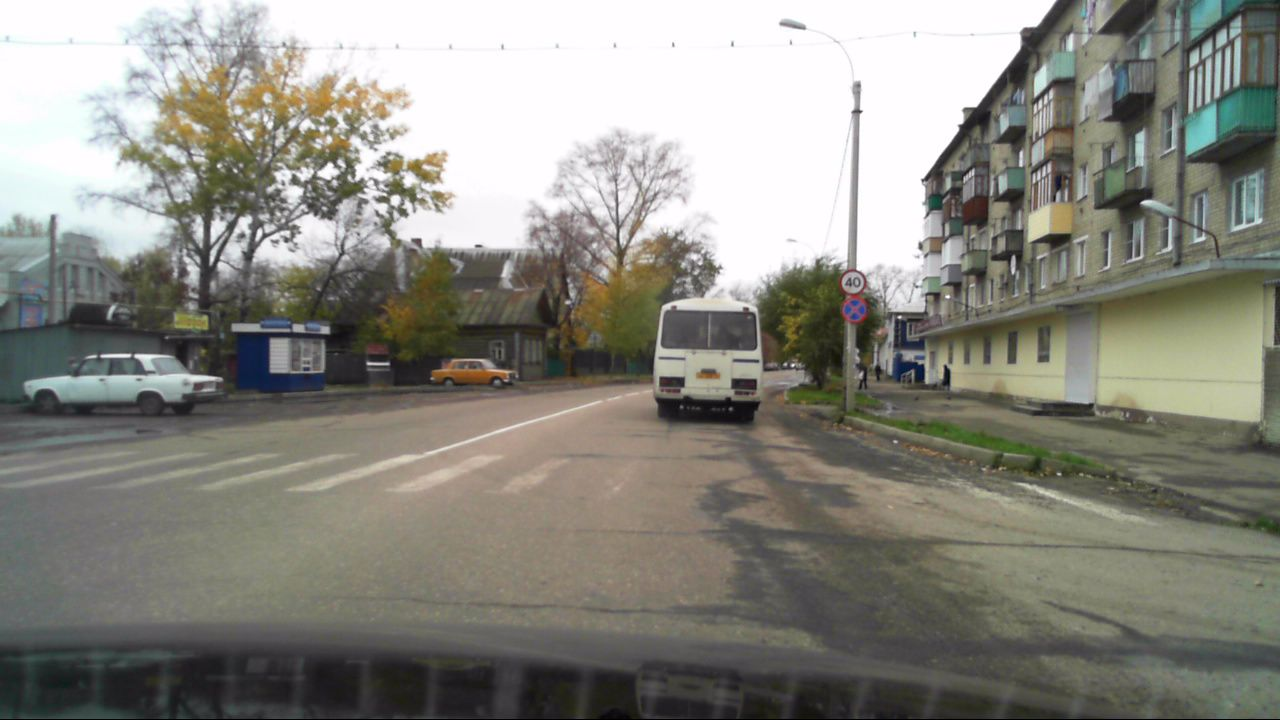No Parking: (839, 296, 869, 324)
speed_warning_40: (837, 269, 867, 295)
